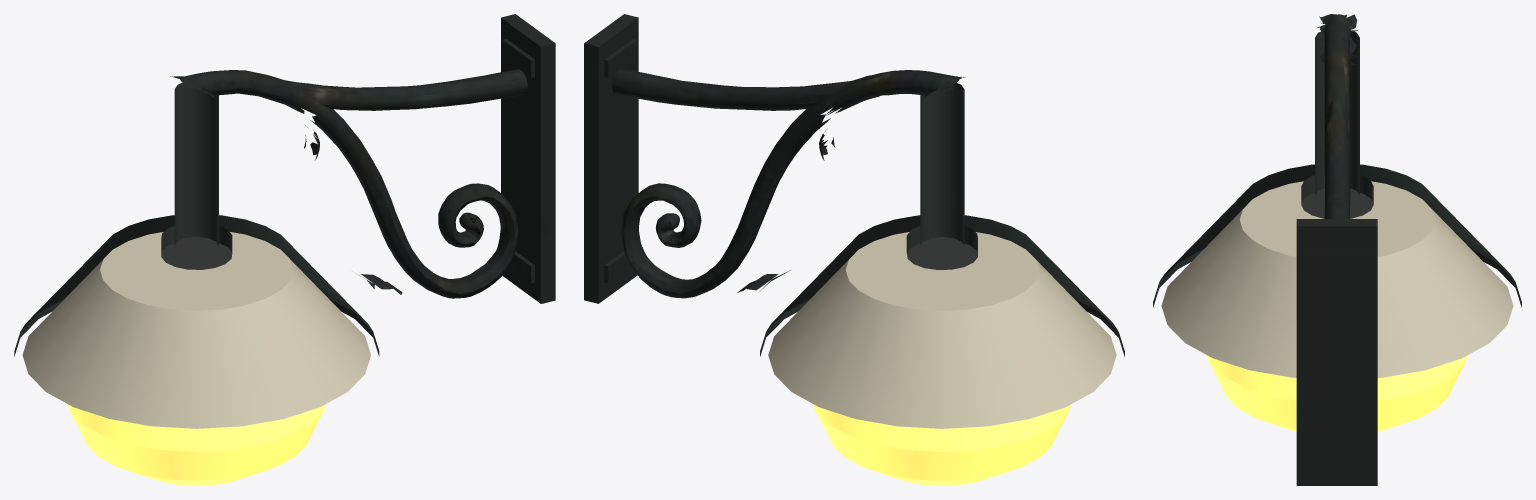
Rendered from wall_bracket_street_lamp.glb.
3 renders of one model, left to right at view 1: azimuth 30°, elevation 25°; view 2: azimuth 150°, elevation 25°; view 3: azimuth 270°, elevation 25°, orthographic.
Parts seen in each view (by area): view 1: main; view 2: main; view 3: main.
Part boxes in pixels (x1,y1,x2,y2): main: (14, 14, 555, 485); main: (584, 14, 1124, 485); main: (1153, 14, 1521, 485).
Size of the model in its own units: 0.4147 by 0.3114 by 0.264.
5 materials, 1 textured.
